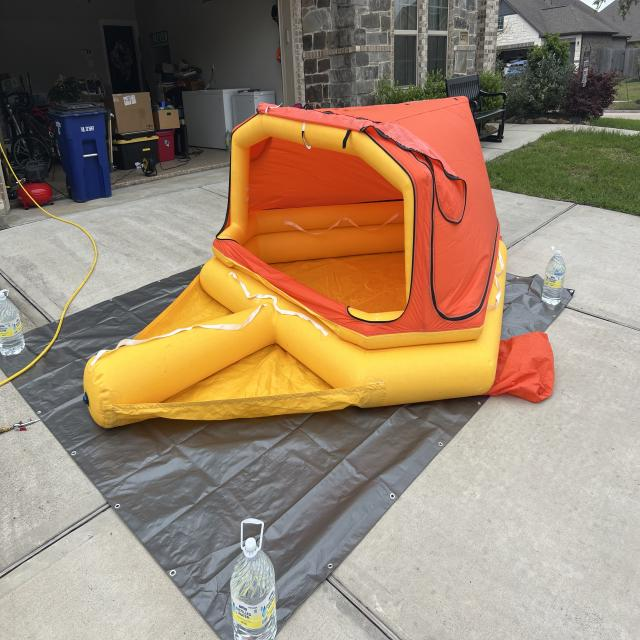Multi-person_life_raft: (84, 94, 554, 430)
